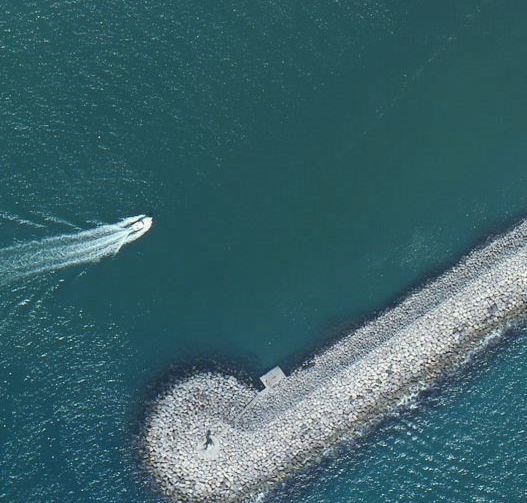ship: (127, 212, 158, 237)
